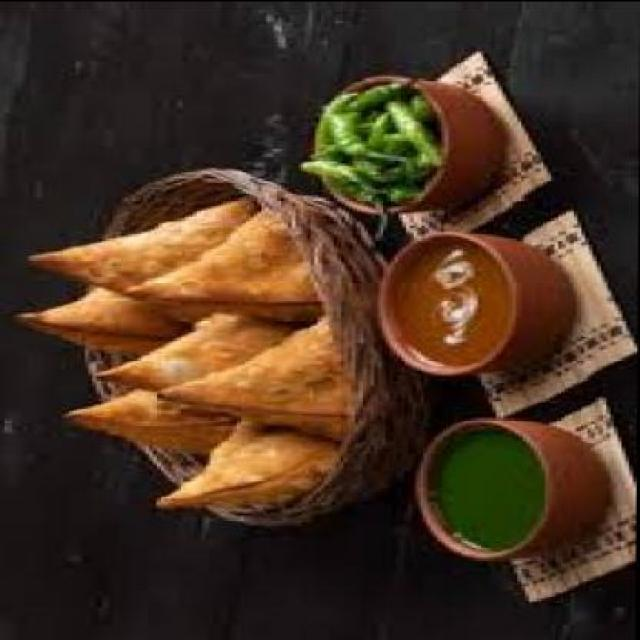samosa: (28, 195, 260, 320), (157, 317, 354, 443), (126, 209, 325, 322), (158, 417, 340, 506), (95, 311, 294, 391), (18, 284, 194, 354), (63, 390, 243, 452)
